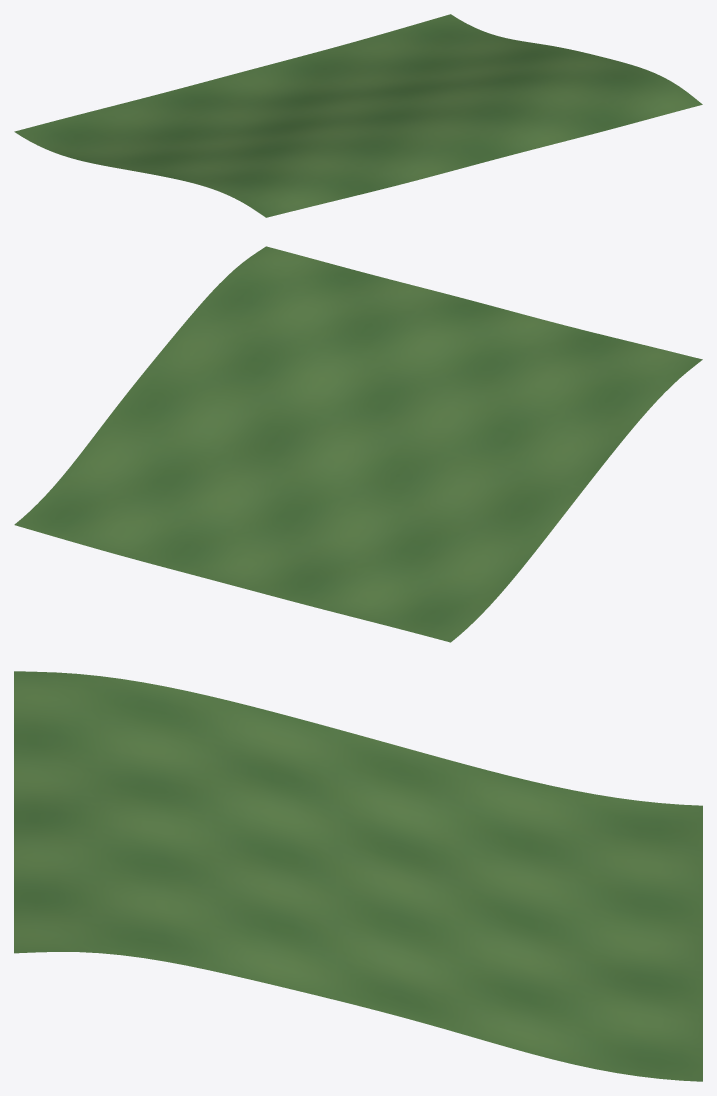
Rendered from chunk_9_12.glb.
3 renders of one model, top to bottom at view 1: azimuth 30°, elevation 25°; view 2: azimuth 150°, elevation 25°; view 3: azimuth 270°, elevation 25°, orthographic. The views are drawn at different scales.
Bounding box in the file's own units: 512 × 119 × 512.
